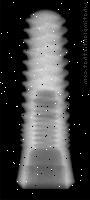Implant Direct: (16, 9, 75, 189)
